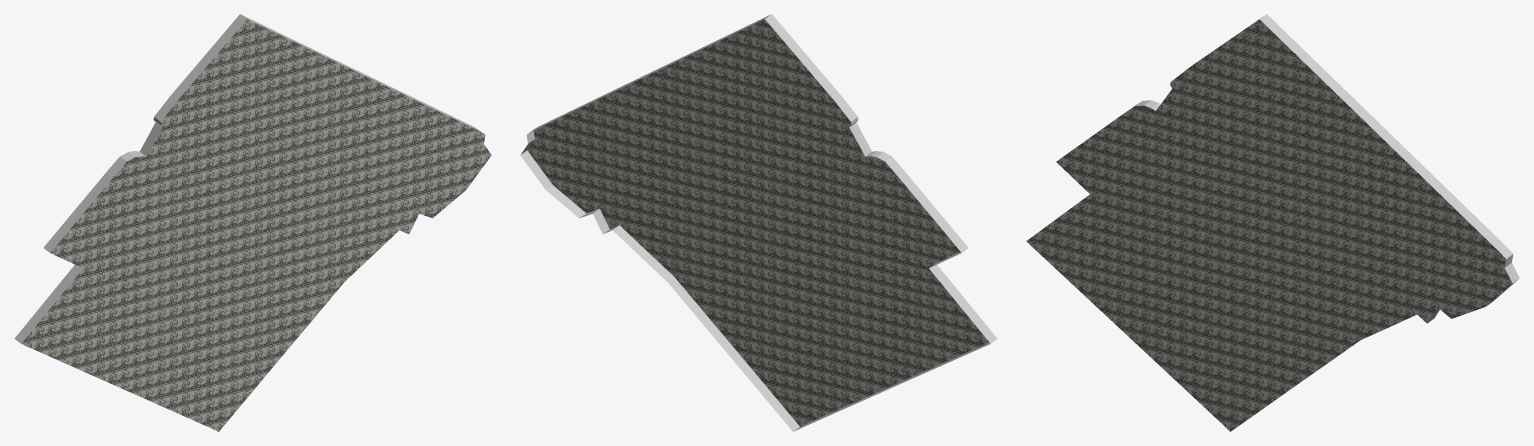
File: geospecific_416.obj
3 renders of one model, left to right at view 1: azimuth 30°, elevation 25°; view 2: azimuth 150°, elevation 25°; view 3: azimuth 330°, elevation 25°, orthographic. The views are drawn at different scales.
Visible parts, largest first — view 1: Building; view 2: Building; view 3: Building.
Part boxes in pixels (x1,y1,x2,y2): Building: (14,14,491,431); Building: (520,14,997,431); Building: (1026,14,1519,431).
Bounding box in the file's own units: 116 × 95.77 × 3.
